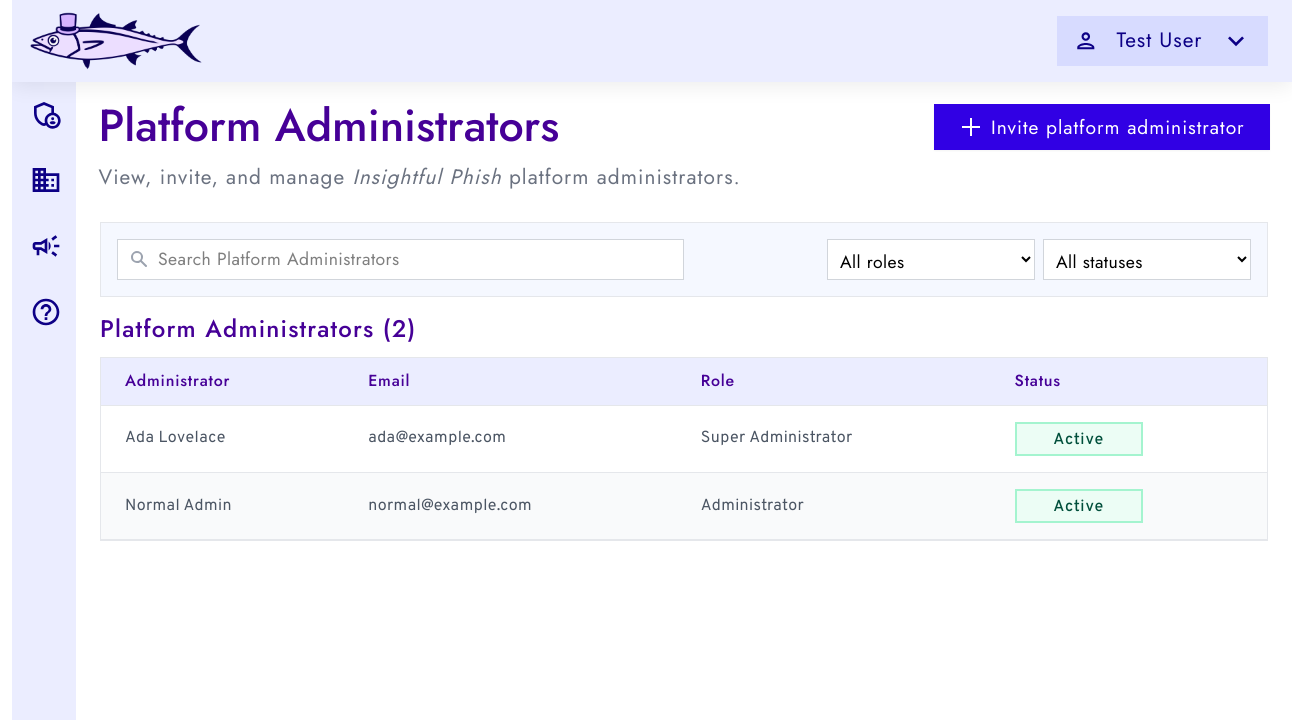
Test: PlatformAdministratorsPage › filters known API roles
This screenshot has width=1292, height=720.
expect the text "Ada Lovelace" is shown: met, box x1=125 y1=428 x2=226 y2=448
Select "Super Administrator" in the 1st dropdown at [931, 259], box x1=827 y1=239 x2=1035 y2=280
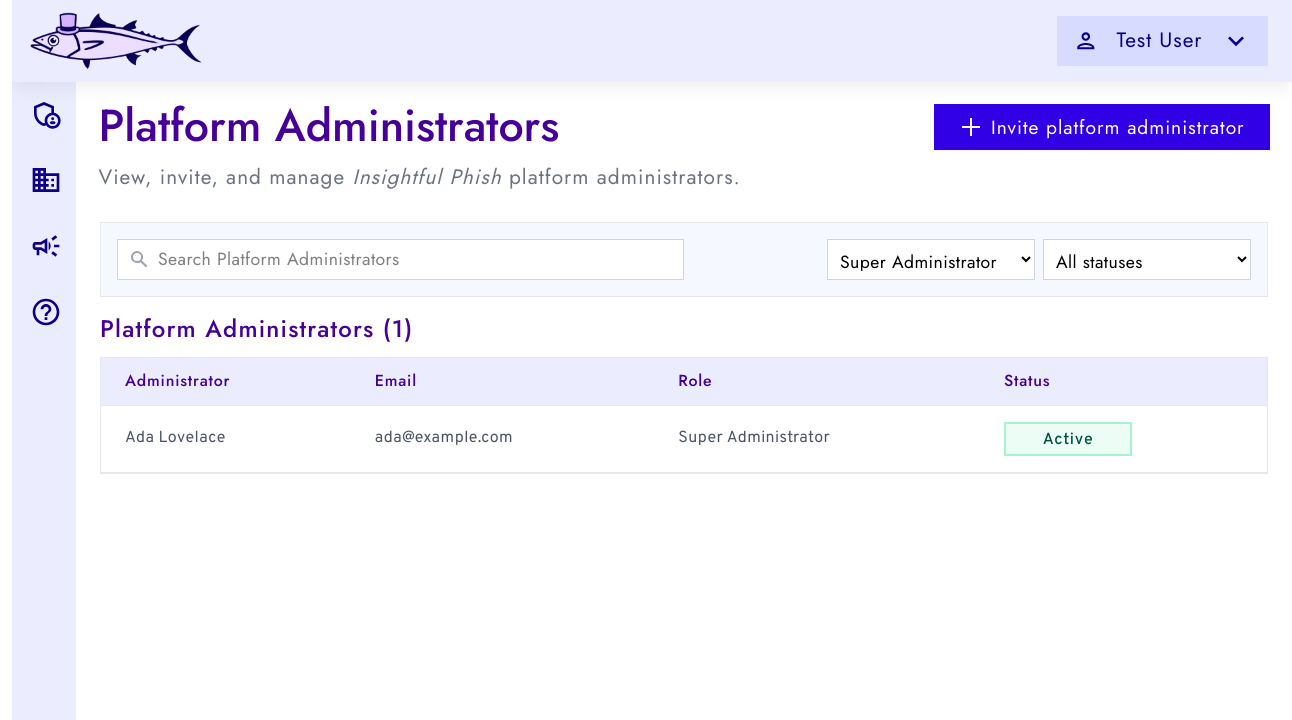
expect the text "Ada Lovelace" is shown: met, box x1=125 y1=428 x2=226 y2=448
expect the text "Normal Admin" is gone: met
